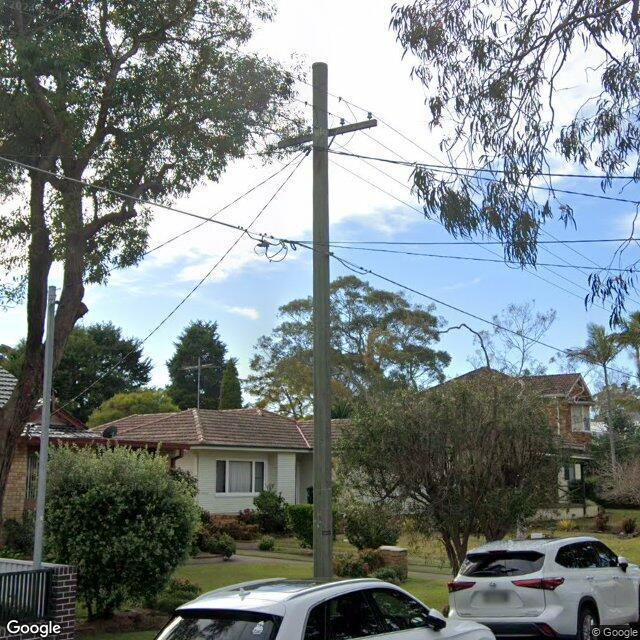crossarm: (277, 118, 377, 149)
steel-pole: (34, 284, 57, 570)
timber-pole: (312, 62, 332, 579)
